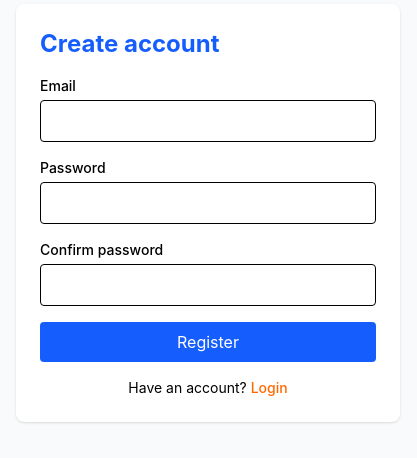
it: rejects mismatched passwords
Type "a@b.com" into the field labelled "Email" at (208, 121), box [40,100,376,142]
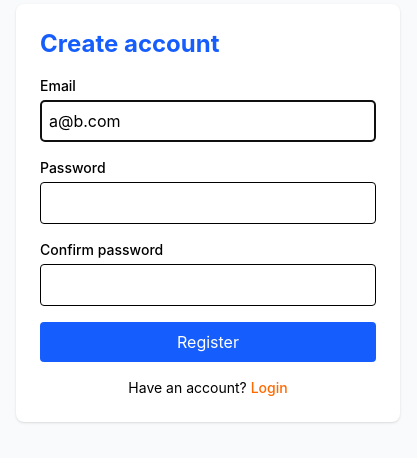
Type "secret1" into the password field labelled "Password" at (208, 203), box [40,182,376,224]
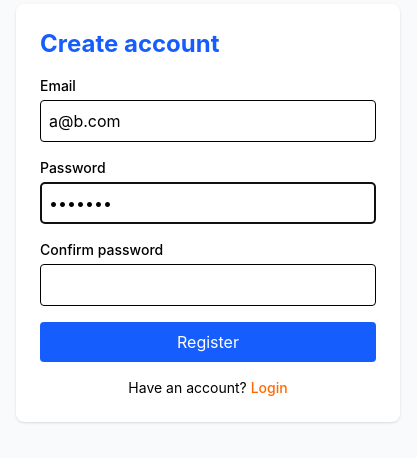
Type "secret2" into the password field labelled "Confirm password" at (208, 285), box [40,264,376,306]
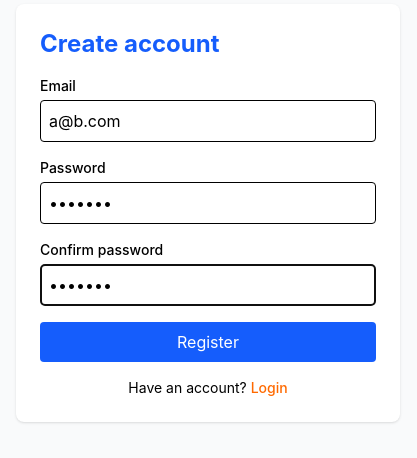
Click the button "Register" at (208, 342), box [40,322,376,362]
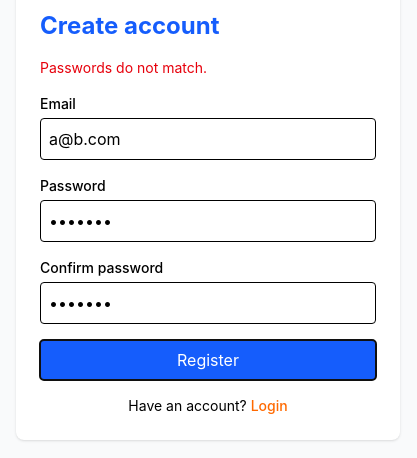
Check: the message shows "do not match", box [40,59,207,76]
